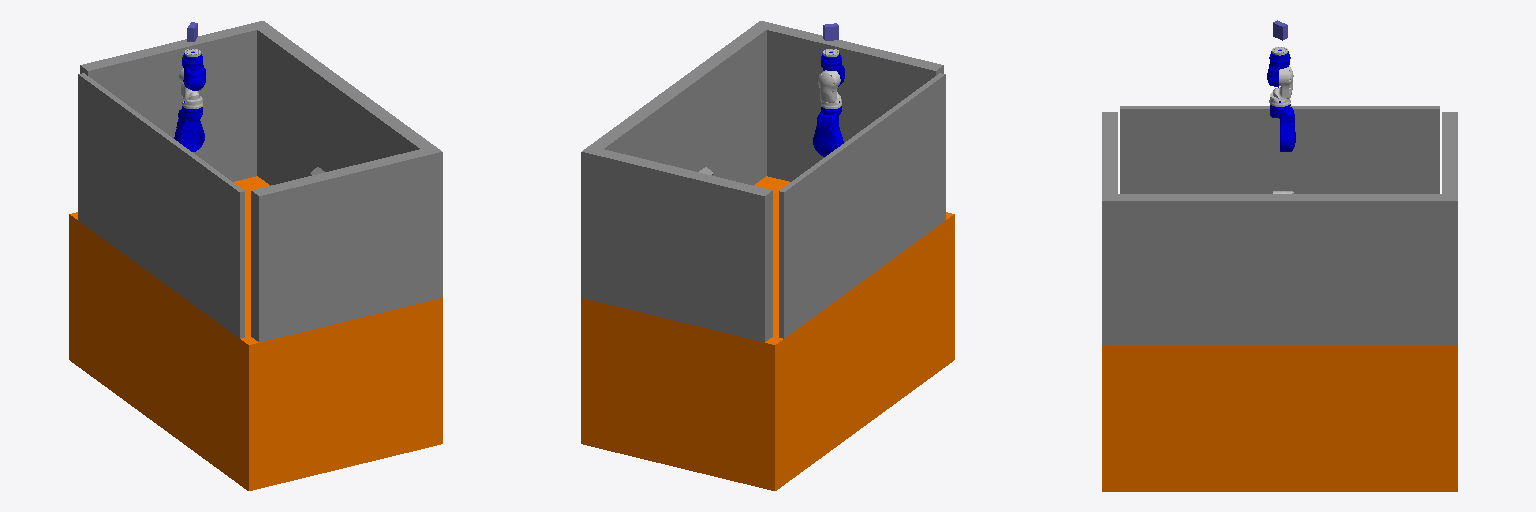
robot.urdf — mantis_sia20d:
<?xml version="1.0" ?>
<!-- =================================================================================== -->
<!-- |    This document was autogenerated by xacro from urdf/mantis_sia20d_arm_workspace.xacro | -->
<!-- |    EDITING THIS FILE BY HAND IS NOT RECOMMENDED                                 | -->
<!-- =================================================================================== -->
<robot name="mantis_sia20d" xmlns:xacro="http://ros.org/wiki/xacro">
  <material name="yellow_transparent">
    <color rgba="0 1 1 0.4"/>
  </material>
  <material name="orange_transparent">
    <color rgba="1 0.5 0 0.4"/>
  </material>
  <material name="gray_transparent">
    <color rgba="0.6 0.6 0.6 0.4"/>
  </material>
  <material name="blue_transparent">
    <color rgba="0 0.8 1 0.4"/>
  </material>
  <link name="workcell_frame"/>
  <!-- property list -->
  <!-- instantiating workcell definitions -->
  <link name="table_base1">
    <visual>
      <origin rpy="0 0 0" xyz="0 0 -0.5"/>
      <geometry>
        <box size="1.3875 2.22 1"/>
      </geometry>
      <material name="orange_transparent"/>
    </visual>
    <collision>
      <origin rpy="0 0 0" xyz="0 0 -0.5"/>
      <geometry>
        <box size="1.3875 2.22 1"/>
      </geometry>
      <material name="blue_transparent"/>
    </collision>
  </link>
  <joint name="workcell_to_table_base1" type="fixed">
    <parent link="workcell_frame"/>
    <child link="table_base1"/>
    <origin rpy="0 0 0" xyz="0.69375 0 0"/>
  </joint>
  <link name="front_wall1">
    <visual>
      <geometry>
        <box size="0.1 2.22 1"/>
      </geometry>
      <material name="gray_transparent"/>
    </visual>
    <collision>
      <geometry>
        <box size="0.1 2.22 1"/>
      </geometry>
      <material name="blue_transparent"/>
    </collision>
  </link>
  <joint name="workcell_frame_to_front_wall1" type="fixed">
    <parent link="workcell_frame"/>
    <child link="front_wall1"/>
    <origin rpy="0 0 0" xyz="1.3375 0 0.5"/>
  </joint>
  <link name="back_wall1">
    <visual>
      <geometry>
        <box size="0.04 2.0 1"/>
      </geometry>
      <material name="gray_transparent"/>
    </visual>
    <collision>
      <geometry>
        <box size="0.04 2.0 1"/>
      </geometry>
      <material name="blue_transparent"/>
    </collision>
  </link>
  <joint name="workcell_frame_to_back_wall1" type="fixed">
    <parent link="workcell_frame"/>
    <child link="back_wall1"/>
    <origin rpy="0 0 0" xyz="0.02 0 0.5"/>
  </joint>
  <link name="left_wall1">
    <visual>
      <geometry>
        <box size="1.221 0.1 1"/>
      </geometry>
      <material name="gray_transparent"/>
    </visual>
    <collision>
      <geometry>
        <box size="1.221 0.1 1"/>
      </geometry>
      <material name="blue_transparent"/>
    </collision>
  </link>
  <joint name="workcell_frame_to_left_wall1" type="fixed">
    <parent link="workcell_frame"/>
    <child link="left_wall1"/>
    <origin rpy="0 0 0" xyz="0.687 1.06 0.5"/>
  </joint>
  <link name="right_wall1">
    <visual>
      <geometry>
        <box size="1.221 0.1 1"/>
      </geometry>
      <material name="gray_transparent"/>
    </visual>
    <collision>
      <geometry>
        <box size="1.221 0.1 1"/>
      </geometry>
      <material name="blue_transparent"/>
    </collision>
  </link>
  <joint name="workcell_frame_to_right_wall1" type="fixed">
    <parent link="workcell_frame"/>
    <child link="right_wall1"/>
    <origin rpy="0 0 0" xyz="0.687 -1.06 0.5"/>
  </joint>
  <!-- end of workcell definitions -->
  <!-- instantiating sensor definitions -->
  <material name="sia20d_arm/color_b">
    <color rgba="0 0.8 1 0.4"/>
  </material>
  <material name="sia20d_arm/color_a">
    <color rgba="0.8 0.2 1 0.2"/>
  </material>
  <material name="sia20d_arm/silver">
    <color rgba="0.6 0.6 0.6 1"/>
  </material>
  <link name="sia20d_arm/kinect">
    <collision>
      <material name="sia20d_arm/color_a"/>
      <geometry>
        <box size="0.36 0.28 0.22"/>
      </geometry>
    </collision>
  </link>
  <link name="sia20d_arm/kinect_keepout">
    <collision>
      <material name="sia20d_arm/color_b"/>
      <geometry>
        <box size="0.2 0.32 0.48"/>
      </geometry>
    </collision>
  </link>
  <link name="sia20d_arm/kinect_frame">
    <visual>
      <origin rpy="0 0 0" xyz="0 0 0"/>
      <geometry>
        <box size="0.064 0.28 0.04"/>
      </geometry>
      <material name="sia20d_arm/silver"/>
    </visual>
    <collision>
      <origin rpy="0 0 0" xyz="0 0 0"/>
      <geometry>
        <box size="0.064 0.28 0.04"/>
      </geometry>
    </collision>
  </link>
  <link name="sia20d_arm/kinect_ir_link">
    <visual>
      <origin rpy="0 0 0" xyz="0 0 0"/>
      <geometry>
        <sphere radius="0.0005"/>
      </geometry>
    </visual>
  </link>
  <link name="sia20d_arm/kinect_rgb_link">
    <visual>
      <origin rpy="0 0 0" xyz="0 0 0"/>
      <geometry>
        <sphere radius="0.0005"/>
      </geometry>
    </visual>
  </link>
  <link name="sia20d_arm/kinect_ir_optical_frame"/>
  <link name="sia20d_arm/kinect_rgb_optical_frame"/>
  <joint name="sia20d_arm/kinect_frame_joint" type="fixed">
    <parent link="sia20d_arm/kinect"/>
    <child link="sia20d_arm/kinect_frame"/>
    <origin rpy="0 0 0" xyz="0 0 0"/>
  </joint>
  <joint name="sia20d_arm/kinect_ir_joint" type="fixed">
    <parent link="sia20d_arm/kinect_frame"/>
    <child link="sia20d_arm/kinect_ir_link"/>
    <origin rpy="0 0 0" xyz="0 0 0"/>
  </joint>
  <joint name="sia20d_arm/kinect_ir_optical_frame_joint" type="fixed">
    <parent link="sia20d_arm/kinect_ir_link"/>
    <child link="sia20d_arm/kinect_ir_optical_frame"/>
    <origin rpy="-1.57 0 -1.57" xyz="0 0 0"/>
  </joint>
  <joint name="sia20d_arm/kinect_rgb_joint" type="fixed">
    <parent link="sia20d_arm/kinect_ir_link"/>
    <child link="sia20d_arm/kinect_rgb_link"/>
    <origin rpy="0 0 0" xyz="0 -0.03 0"/>
  </joint>
  <joint name="sia20d_arm/kinect_rgb_optical_frame_joint" type="fixed">
    <parent link="sia20d_arm/kinect_rgb_link"/>
    <child link="sia20d_arm/kinect_rgb_optical_frame"/>
    <origin rpy="-1.57 0 -1.57" xyz="0 0 0"/>
  </joint>
  <joint name="sia20d_arm/workcell_frame_to_kinect" type="fixed">
    <parent link="workcell_frame"/>
    <child link="sia20d_arm/kinect"/>
    <origin rpy="0 0.5235 3.147" xyz="1.2 0 0.4"/>
  </joint>
  <joint name="sia20d_arm/workcell_frame_to_kinect_keepout" type="fixed">
    <parent link="workcell_frame"/>
    <child link="sia20d_arm/kinect_keepout"/>
    <origin rpy="0 0 3.147" xyz="1.2 0 0.24"/>
  </joint>
  <!-- end of sensor definitions -->
  <!-- instantiating arm and gripper -->
  <link name="sia20d_arm/palm">
    <visual>
      <origin rpy="0 0 0" xyz="0 0.036 -0.0473"/>
      <geometry>
        <box size="0.044 0.088 0.0946"/>
      </geometry>
      <material name="another_blue1">
        <color rgba="0.40 0.40 0.80 1"/>
      </material>
    </visual>
    <collision>
      <origin rpy="0 0 0" xyz="0 0.036 -0.0473"/>
      <geometry>
        <box size="0.044 0.088 0.0946"/>
      </geometry>
      <material name="another_blue2">
        <color rgba="0.38 0.54 0.83 1"/>
      </material>
    </collision>
  </link>
  <link name="sia20d_arm/base_link">
    <visual>
      <geometry>
        <mesh filename="package://motoman_config/meshes/sia20d/visual/MOTOMAN_BASE.stl"/>
      </geometry>
      <material name="blue">
        <color rgba="0 0 1 1"/>
      </material>
    </visual>
    <collision>
      <geometry>
        <mesh filename="package://motoman_config/meshes/sia20d/collision/MOTOMAN_BASE.stl"/>
      </geometry>
      <material name="yellow">
        <color rgba="0 1 1 1"/>
      </material>
    </collision>
  </link>
  <link name="sia20d_arm/link_s">
    <visual>
      <origin rpy="0 0 3.1416" xyz="0 0 0"/>
      <geometry>
        <mesh filename="package://motoman_config/meshes/sia20d/visual/MOTOMAN_AXIS_S.stl"/>
      </geometry>
      <material name="silver">
        <color rgba="0.8 0.8 0.8 1"/>
      </material>
    </visual>
    <collision>
      <origin rpy="0 0 3.1416" xyz="0 0 0"/>
      <geometry>
        <mesh filename="package://motoman_config/meshes/sia20d/collision/MOTOMAN_AXIS_S.stl"/>
      </geometry>
      <material name="yellow"/>
    </collision>
  </link>
  <link name="sia20d_arm/link_l">
    <visual>
      <origin rpy="1.57 3.1416 3.1416" xyz="0 0 0"/>
      <geometry>
        <mesh filename="package://motoman_config/meshes/sia20d/visual/MOTOMAN_AXIS_L.stl"/>
      </geometry>
      <material name="blue"/>
    </visual>
    <collision>
      <origin rpy="1.57 3.1416 3.1416" xyz="0 0 0"/>
      <geometry>
        <mesh filename="package://motoman_config/meshes/sia20d/collision/MOTOMAN_AXIS_L.stl"/>
      </geometry>
      <material name="yellow"/>
    </collision>
  </link>
  <link name="sia20d_arm/link_e">
    <visual>
      <origin rpy="0 0 0" xyz="0 0 0"/>
      <geometry>
        <mesh filename="package://motoman_config/meshes/sia20d/visual/MOTOMAN_AXIS_E.stl"/>
      </geometry>
      <material name="silver"/>
    </visual>
    <collision>
      <origin rpy="0 0 0" xyz="0 0 0"/>
      <geometry>
        <mesh filename="package://motoman_config/meshes/sia20d/collision/MOTOMAN_AXIS_E.stl"/>
      </geometry>
      <material name="yellow"/>
    </collision>
  </link>
  <link name="sia20d_arm/link_u">
    <visual>
      <origin rpy="1.57 -3.1415 3.1416" xyz="0 0 0"/>
      <geometry>
        <mesh filename="package://motoman_config/meshes/sia20d/visual/MOTOMAN_AXIS_U.stl"/>
      </geometry>
      <material name="blue"/>
    </visual>
    <collision>
      <origin rpy="1.57 -3.1415 3.1416" xyz="0 0 0"/>
      <geometry>
        <mesh filename="package://motoman_config/meshes/sia20d/collision/MOTOMAN_AXIS_U.stl"/>
      </geometry>
      <material name="yellow"/>
    </collision>
  </link>
  <link name="sia20d_arm/link_r">
    <visual>
      <origin rpy="0 0 0" xyz="0 0 0"/>
      <geometry>
        <mesh filename="package://motoman_config/meshes/sia20d/visual/MOTOMAN_AXIS_R.stl"/>
      </geometry>
      <material name="silver"/>
    </visual>
    <collision>
      <origin rpy="0 0 0" xyz="0 0 0"/>
      <geometry>
        <mesh filename="package://motoman_config/meshes/sia20d/collision/MOTOMAN_AXIS_R.stl"/>
      </geometry>
      <material name="yellow"/>
    </collision>
  </link>
  <link name="sia20d_arm/link_b">
    <visual>
      <origin rpy="-1.57 0 0" xyz="0 0 0"/>
      <geometry>
        <mesh filename="package://motoman_config/meshes/sia20d/visual/MOTOMAN_AXIS_B.stl"/>
      </geometry>
      <material name="blue"/>
    </visual>
    <collision>
      <origin rpy="-1.57 0 0" xyz="0 0 0"/>
      <geometry>
        <mesh filename="package://motoman_config/meshes/sia20d/collision/MOTOMAN_AXIS_B.stl"/>
      </geometry>
      <material name="yellow"/>
    </collision>
  </link>
  <link name="sia20d_arm/link_t">
    <visual>
      <geometry>
        <mesh filename="package://motoman_config/meshes/sia20d/visual/MOTOMAN_AXIS_T.stl"/>
      </geometry>
      <material name="silver"/>
    </visual>
    <collision>
      <geometry>
        <mesh filename="package://motoman_config/meshes/sia20d/collision/MOTOMAN_AXIS_T.stl"/>
      </geometry>
      <material name="yellow"/>
    </collision>
  </link>
  <joint name="sia20d_arm/joint_s" type="revolute">
    <parent link="sia20d_arm/base_link"/>
    <child link="sia20d_arm/link_s"/>
    <origin rpy="0 0 0" xyz="0 0 0.41"/>
    <axis xyz="0 0 1"/>
    <limit effort="100" lower="-3.1416" upper="3.1416" velocity="2.26"/>
  </joint>
  <joint name="sia20d_arm/joint_l" type="revolute">
    <parent link="sia20d_arm/link_s"/>
    <child link="sia20d_arm/link_l"/>
    <origin rpy="0 0 0" xyz="0 0 0"/>
    <axis xyz="0 1 0"/>
    <limit effort="100" lower="-1.91" upper="1.91" velocity="2.26"/>
  </joint>
  <joint name="sia20d_arm/joint_e" type="revolute">
    <parent link="sia20d_arm/link_l"/>
    <child link="sia20d_arm/link_e"/>
    <origin rpy="0 0 0" xyz="0 0 0.49"/>
    <axis xyz="0 0 1"/>
    <limit effort="100" lower="-2.96" upper="2.96" velocity="2.96"/>
  </joint>
  <joint name="sia20d_arm/joint_u" type="revolute">
    <parent link="sia20d_arm/link_e"/>
    <child link="sia20d_arm/link_u"/>
    <origin rpy="0 0 0" xyz="0 0 0"/>
    <axis xyz="0 -1 0"/>
    <limit effort="100" lower="-2.26" upper="2.26" velocity="2.96"/>
  </joint>
  <joint name="sia20d_arm/joint_r" type="revolute">
    <parent link="sia20d_arm/link_u"/>
    <child link="sia20d_arm/link_r"/>
    <origin rpy="0 0 0" xyz="0 0 0.420"/>
    <axis xyz="0 0 -1"/>
    <limit effort="100" lower="-3.1416" upper="3.1416" velocity="3.48"/>
  </joint>
  <joint name="sia20d_arm/joint_b" type="revolute">
    <parent link="sia20d_arm/link_r"/>
    <child link="sia20d_arm/link_b"/>
    <origin rpy="0 0 0" xyz="0 0 0"/>
    <axis xyz="0 -1 0"/>
    <limit effort="100" lower="-1.91" upper="1.91" velocity="3.48"/>
  </joint>
  <joint name="sia20d_arm/joint_t" type="revolute">
    <parent link="sia20d_arm/link_b"/>
    <child link="sia20d_arm/link_t"/>
    <origin rpy="0 0 0" xyz="0 0 0.18"/>
    <axis xyz="0 0 -1"/>
    <limit effort="100" lower="-3.1416" upper="3.1416" velocity="6.97"/>
  </joint>
  <!-- arm-workcell joint definitions -->
  <joint name="sia20d_to_workcell" type="fixed">
    <parent link="workcell_frame"/>
    <child link="sia20d_arm/base_link"/>
    <origin rpy="0 0 0" xyz="0.241 0 0"/>
  </joint>
  <!-- end of arm workcell joint definitions-->
  <!-- arm-gripper coupling link definitions-->
  <link name="sia20d_arm/coupler">
    <visual>
      <geometry>
        <mesh filename="package://longhorn/meshes/coupler/visual/COUPLER.stl"/>
      </geometry>
      <material name="orange">
        <color rgba="1 0.5 0 1"/>
      </material>
    </visual>
    <collision>
      <geometry>
        <mesh filename="package://longhorn/meshes/coupler/collision/COUPLER.stl"/>
      </geometry>
      <material name="yellow">
        <color rgba="0 1 1 1"/>
      </material>
    </collision>
  </link>
  <!-- end of arm-gripper coupling link definitions -->
  <!-- arm-gripper coupling joint definitions -->
  <joint name="tool-coupler" type="fixed">
    <parent link="sia20d_arm/link_t"/>
    <child link="sia20d_arm/coupler"/>
    <origin rpy="1.570 0 -0.785" xyz="0 0 0"/>
  </joint>
  <joint name="coupler-hand" type="fixed">
    <parent link="sia20d_arm/coupler"/>
    <child link="sia20d_arm/palm"/>
    <origin rpy="-1.570 0 0" xyz="0 0.182 0.036"/>
  </joint>
  <!-- end of arm-gripper coupling joint definitions -->
</robot>

--- What the picture shows (computed from the rendered views, not written in the file) ---
3 views of the same robot in one strip: view 1: azimuth 30°, elevation 25°; view 2: azimuth 150°, elevation 25°; view 3: azimuth 270°, elevation 25° (orthographic).
Robot: mantis_sia20d — 23 links, 22 joints (7 revolute, 15 fixed); root link workcell_frame; default pose: every joint at zero.
Visible links, largest first — view 1: table_base1, right_wall1, back_wall1, front_wall1, left_wall1, sia20d_arm/link_u, sia20d_arm/link_b; view 2: table_base1, left_wall1, back_wall1, front_wall1, right_wall1, sia20d_arm/link_u, sia20d_arm/link_r; view 3: front_wall1, table_base1, back_wall1, left_wall1, right_wall1, sia20d_arm/link_u, sia20d_arm/link_r.
Boxes of the visible links, bbox=[...] form: table_base1: bbox=[69, 176, 442, 490]; right_wall1: bbox=[251, 149, 428, 342]; back_wall1: bbox=[78, 73, 244, 338]; front_wall1: bbox=[250, 21, 442, 300]; left_wall1: bbox=[80, 24, 258, 181]; sia20d_arm/link_u: bbox=[174, 101, 204, 151]; sia20d_arm/link_b: bbox=[182, 52, 205, 90]; table_base1: bbox=[581, 176, 954, 490]; left_wall1: bbox=[594, 149, 772, 342]; back_wall1: bbox=[779, 73, 945, 338]; front_wall1: bbox=[581, 21, 773, 300]; right_wall1: bbox=[765, 24, 943, 181]; sia20d_arm/link_u: bbox=[813, 101, 843, 156]; sia20d_arm/link_r: bbox=[818, 70, 841, 108]; front_wall1: bbox=[1102, 194, 1457, 345]; table_base1: bbox=[1102, 346, 1457, 491]; back_wall1: bbox=[1120, 106, 1439, 193]; left_wall1: bbox=[1442, 112, 1457, 194]; right_wall1: bbox=[1102, 112, 1117, 194]; sia20d_arm/link_u: bbox=[1270, 101, 1295, 151]; sia20d_arm/link_r: bbox=[1269, 66, 1293, 106].
Size in the robot's own frame: 1.39 by 2.22 by 2.68 metres.
6 mesh visuals loaded from 9 distinct referenced files (6 binary STL); not drawn: 3 (reference not matched to a file when rendering).